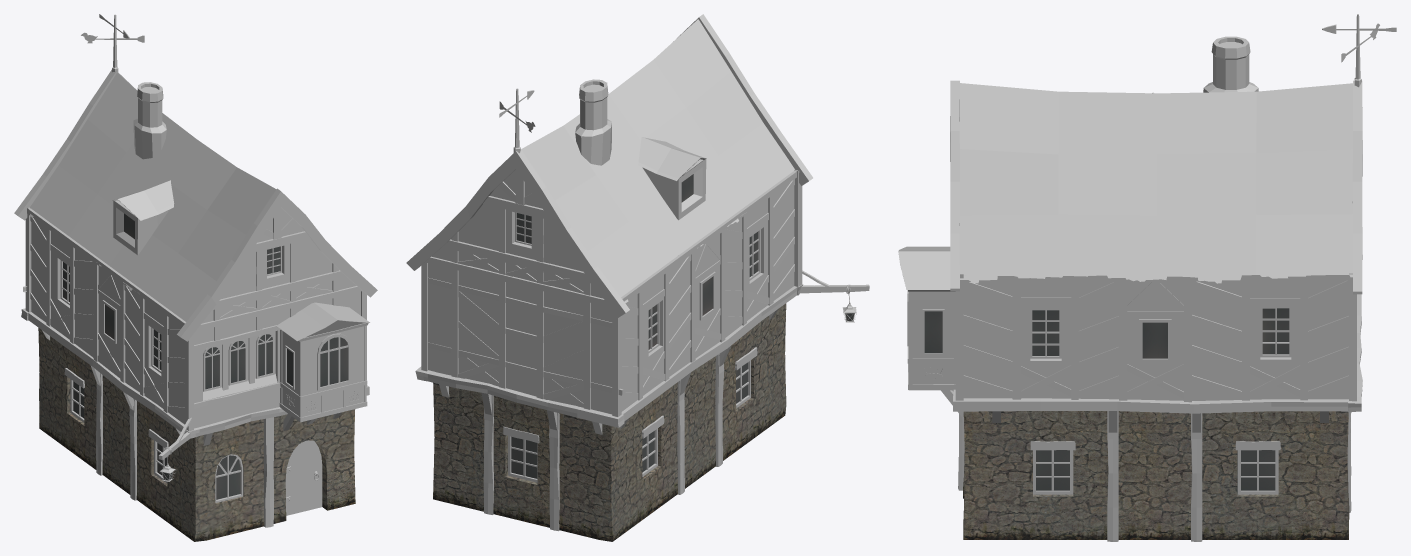
The model's file is tavern.fbx.
3 renders of one model, left to right at view 1: azimuth 30°, elevation 25°; view 2: azimuth 150°, elevation 25°; view 3: azimuth 270°, elevation 25°, orthographic. The views are drawn at different scales.
Visible parts, largest first — view 1: tavern; view 2: tavern; view 3: tavern.
Boxes of the visible parts, x1,y1,x2,y2 form: tavern: [14, 14, 377, 541]; tavern: [406, 14, 869, 541]; tavern: [898, 14, 1396, 541].
Bounding box in the file's own units: 7.94 × 12.65 × 11.94.
